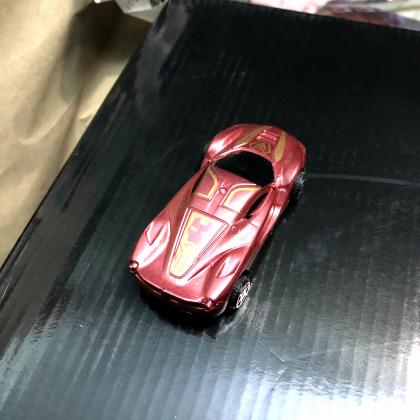Car: (128, 125, 306, 321)
